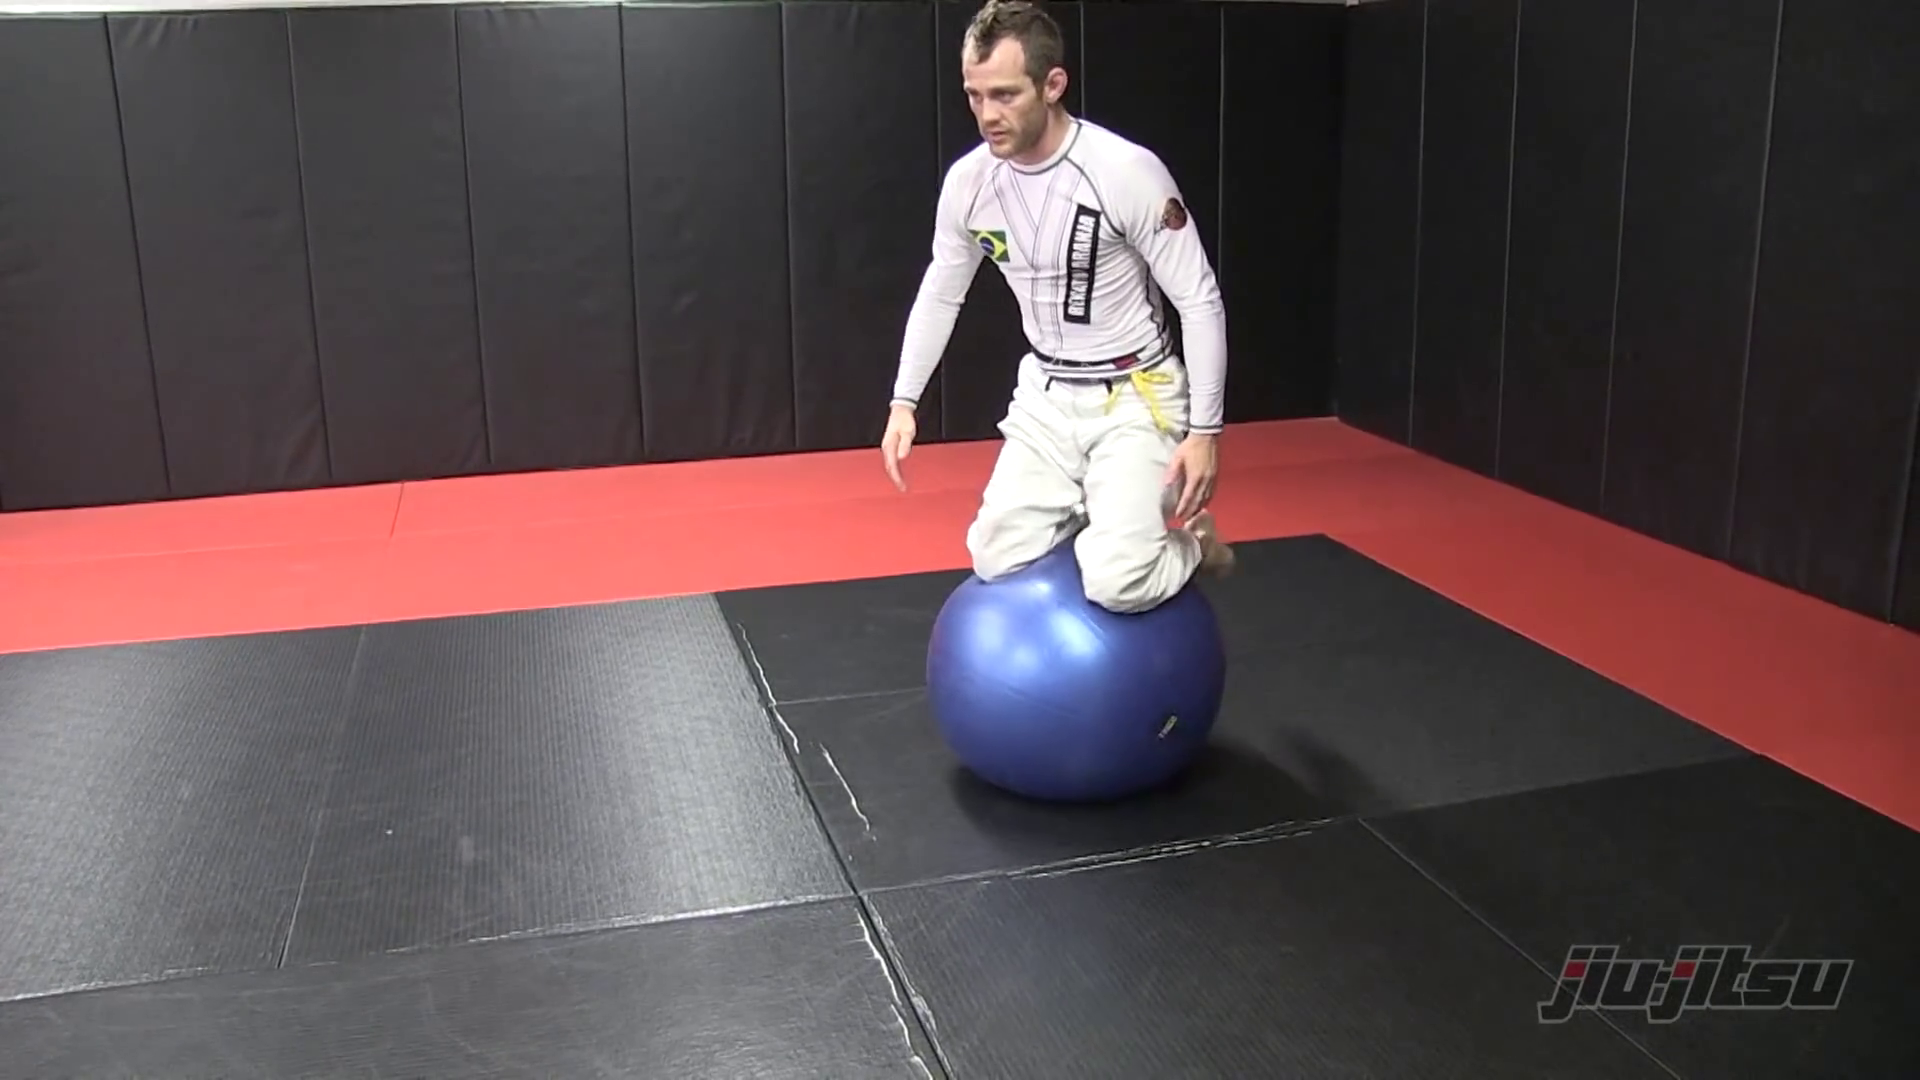yogaball: (909, 556, 1261, 824)
